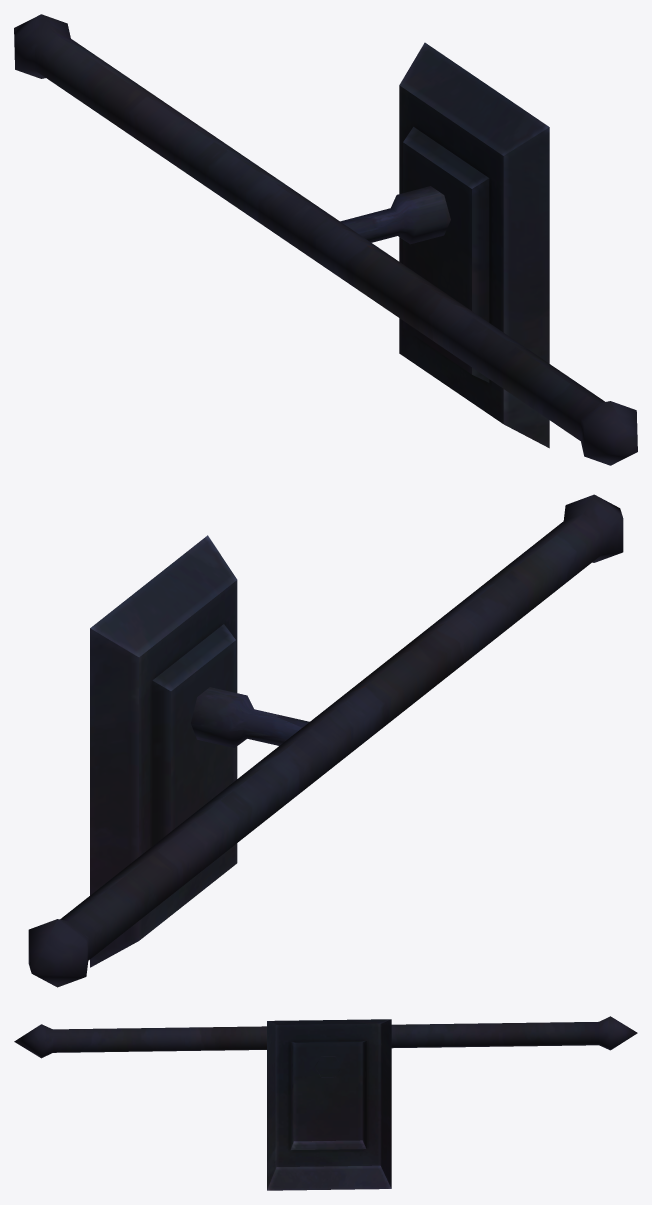
Rendered from Area_ManorProps_Flagpole01_Vo_1437_0.fbx.
3 renders of one model, top to bottom at view 1: azimuth 30°, elevation 25°; view 2: azimuth 150°, elevation 25°; view 3: azimuth 270°, elevation 25°, orthographic. The views are drawn at different scales.
Parts seen in each view (by area): view 1: Area_ManorProps_Flagpole01_Vo_1437_0; view 2: Area_ManorProps_Flagpole01_Vo_1437_0; view 3: Area_ManorProps_Flagpole01_Vo_1437_0.
Boxes of the visible parts, box(x1,y1,x2,y2) form: Area_ManorProps_Flagpole01_Vo_1437_0: box(14, 14, 637, 465); Area_ManorProps_Flagpole01_Vo_1437_0: box(28, 494, 623, 987); Area_ManorProps_Flagpole01_Vo_1437_0: box(14, 1016, 637, 1190).
Size of the model in its own units: 0.4101 by 0.6001 by 2.
